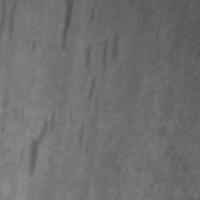inclusion: (74, 24, 127, 107), (19, 101, 61, 179), (50, 0, 84, 57)
